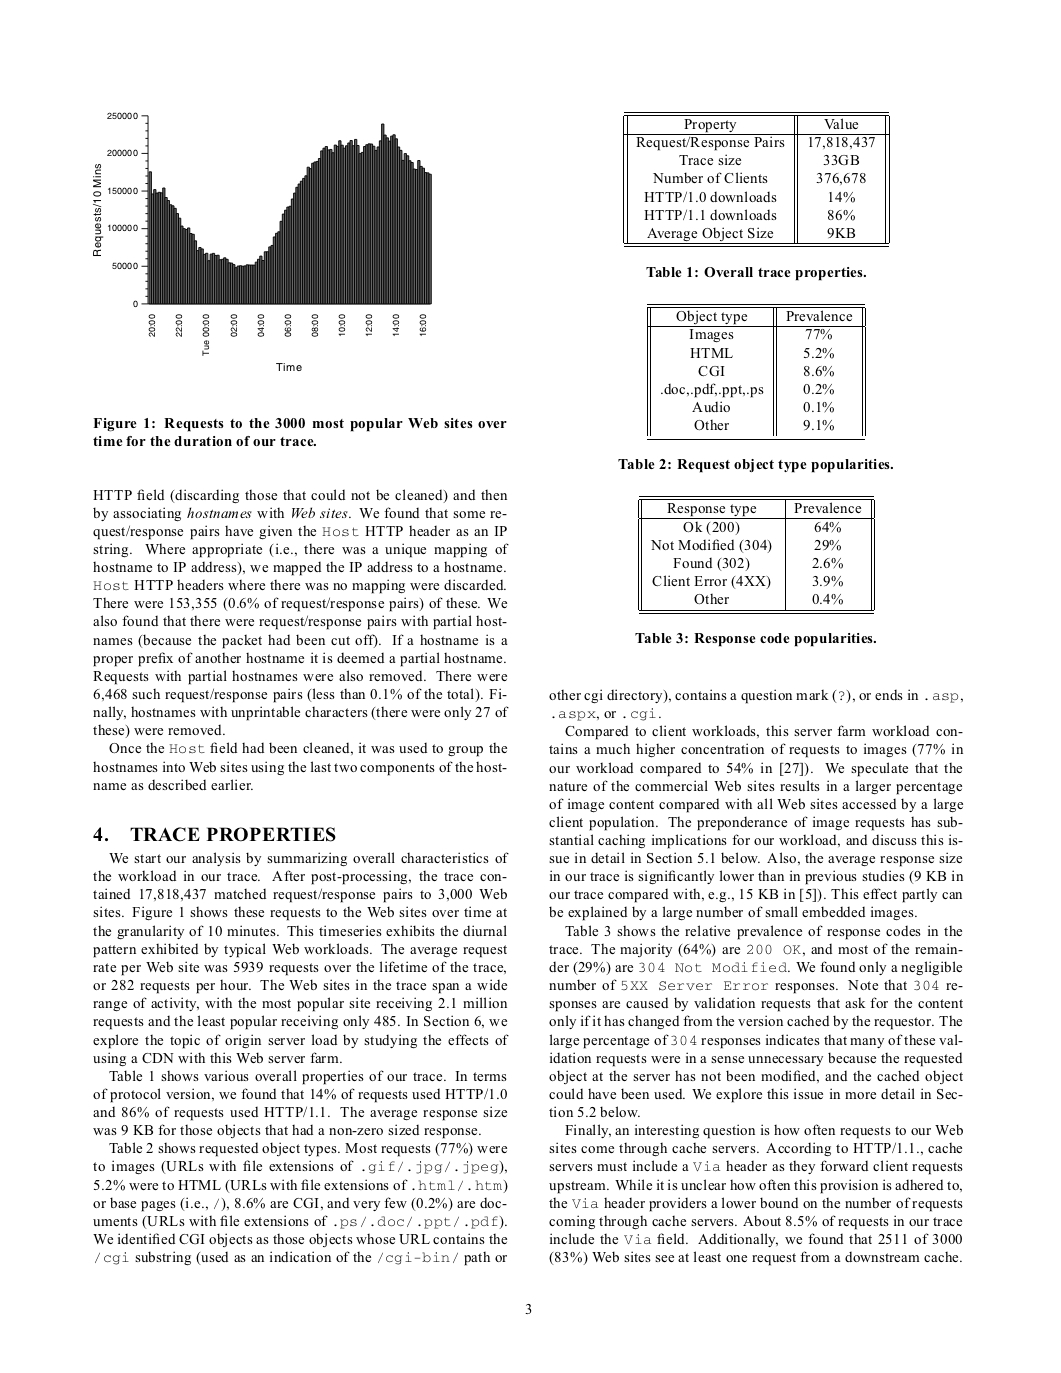Table: (623, 111, 889, 245), (648, 302, 865, 438), (637, 495, 874, 612)
figure: (93, 111, 431, 308)
